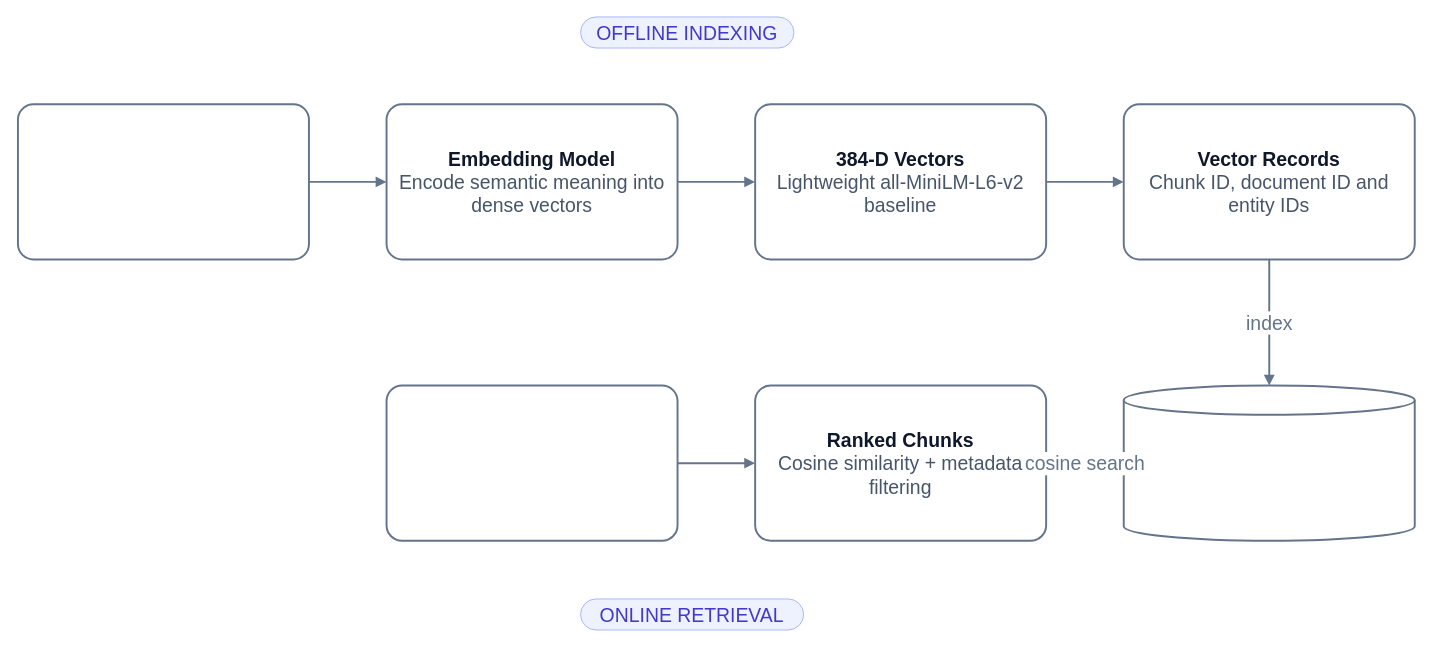
Image size: 1432x647. Some labels were removed from this diagram. Each missing label, with the centre of its shape:
Document Chunks Text with document and entity metadata: point 162,181
Query Embedding Use the same vector representation: point 531,462
ZVec Index Local approximate similarity search: point 1268,462
